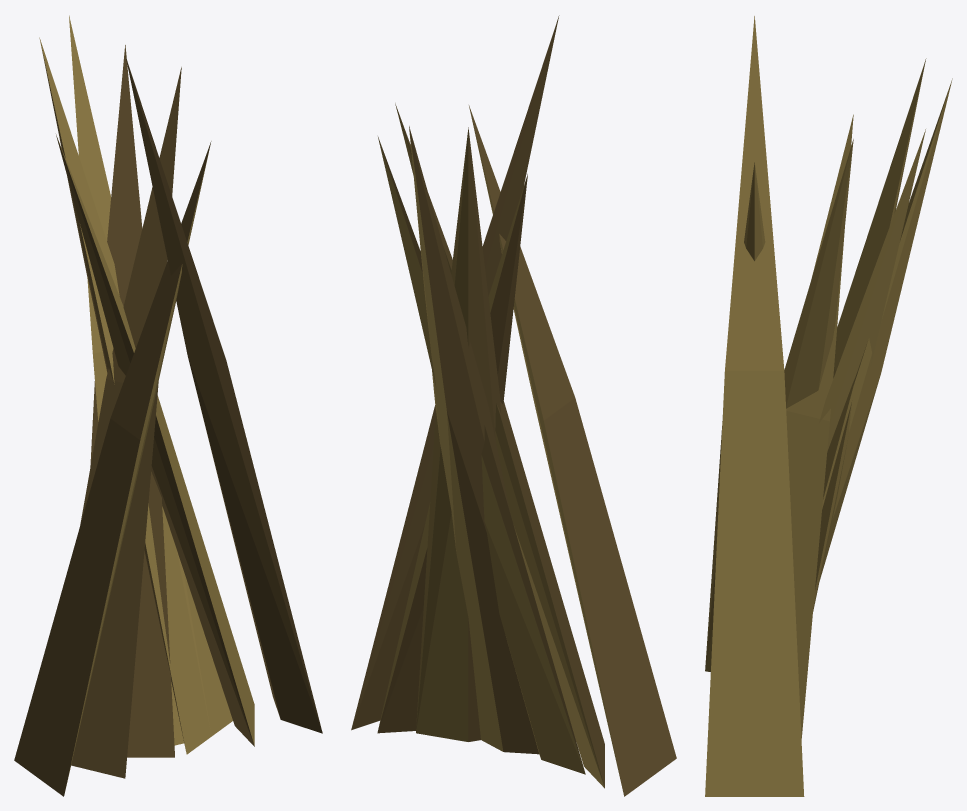
Rendered from TW_VEG_GRASS_FAN_B_LOD0.glb.
3 views of the same model, side by side, from view 1: azimuth 30°, elevation 25°; view 2: azimuth 150°, elevation 25°; view 3: azimuth 270°, elevation 25° (orthographic). The views are drawn at different scales.
Visible parts, largest first — view 1: TW_VEG_GRASS_FAN_B_LOD0; view 2: TW_VEG_GRASS_FAN_B_LOD0; view 3: TW_VEG_GRASS_FAN_B_LOD0.
Part boxes in pixels (x1,y1,x2,y2): TW_VEG_GRASS_FAN_B_LOD0: (14,15,322,796); TW_VEG_GRASS_FAN_B_LOD0: (351,15,676,796); TW_VEG_GRASS_FAN_B_LOD0: (705,16,952,796).
Bounding box in the file's own units: 0.27 × 0.7003 × 0.225.
Materials: 1 (1 with a texture image).
